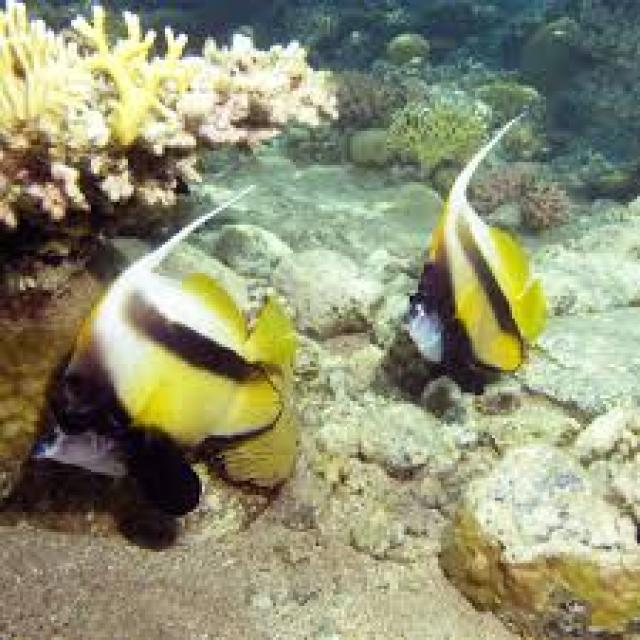Bannerfish: (48, 195, 301, 514), (407, 118, 551, 380)
